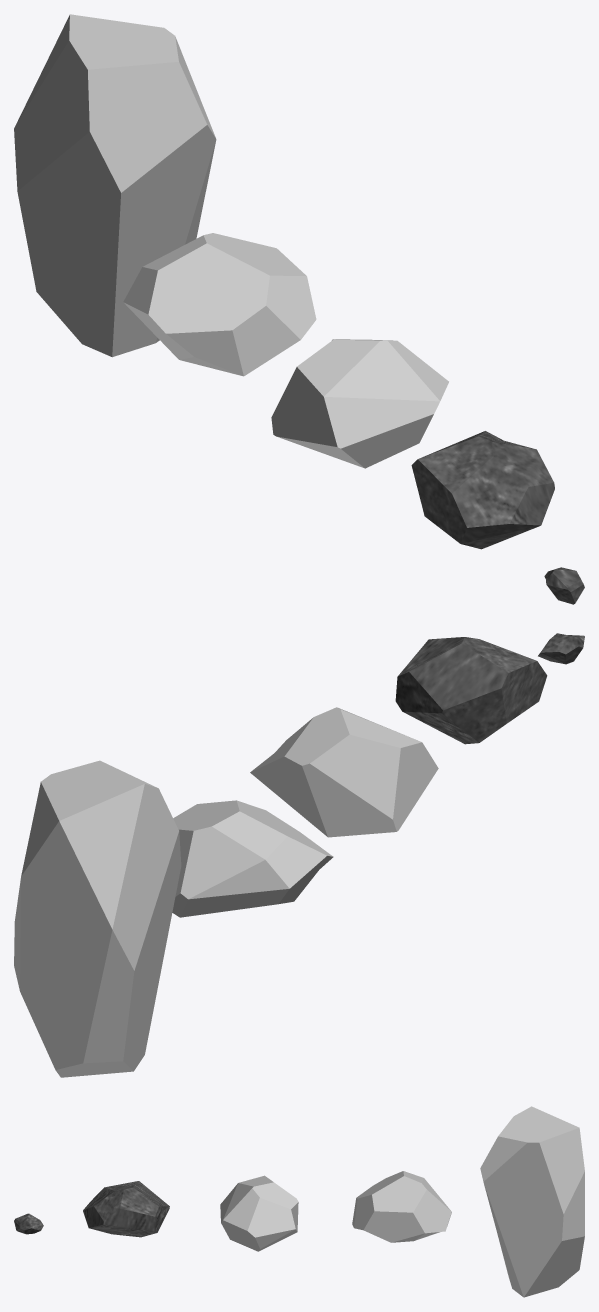
The model's file is rocks.fbx.
3 views of the same model, one above another, from view 1: azimuth 30°, elevation 25°; view 2: azimuth 150°, elevation 25°; view 3: azimuth 270°, elevation 25° (orthographic). The views are drawn at different scales.
Visible parts, largest first — view 1: big rock, mediun rock, mediun rock 2, mediun rock 3, small rock; view 2: big rock, mediun rock 2, mediun rock, mediun rock 3, small rock; view 3: big rock, mediun rock, mediun rock 2, mediun rock 3, small rock.
Boxes of the visible parts, bbox=[...] form: big rock: bbox=[14, 14, 216, 357]; mediun rock: bbox=[123, 233, 316, 376]; mediun rock 2: bbox=[271, 339, 448, 468]; mediun rock 3: bbox=[411, 431, 554, 549]; small rock: bbox=[544, 567, 584, 604]; big rock: bbox=[14, 760, 181, 1077]; mediun rock 2: bbox=[250, 707, 438, 837]; mediun rock: bbox=[172, 800, 333, 917]; mediun rock 3: bbox=[395, 637, 547, 744]; small rock: bbox=[538, 633, 584, 664]; big rock: bbox=[480, 1106, 584, 1297]; mediun rock: bbox=[352, 1171, 451, 1242]; mediun rock 2: bbox=[220, 1175, 298, 1251]; mediun rock 3: bbox=[83, 1181, 169, 1237]; small rock: bbox=[14, 1213, 43, 1234].
Size of the model in its own units: 230 by 380 by 1196.
